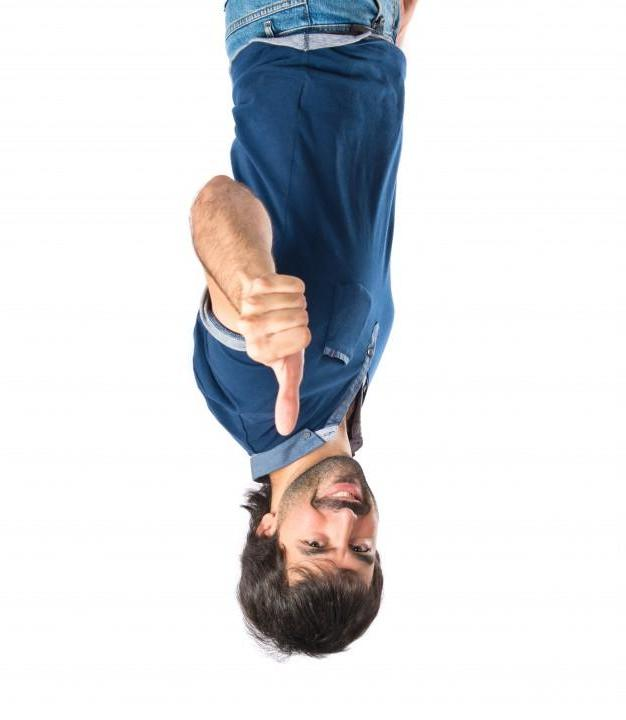thumbsdown: (238, 275, 312, 436)
